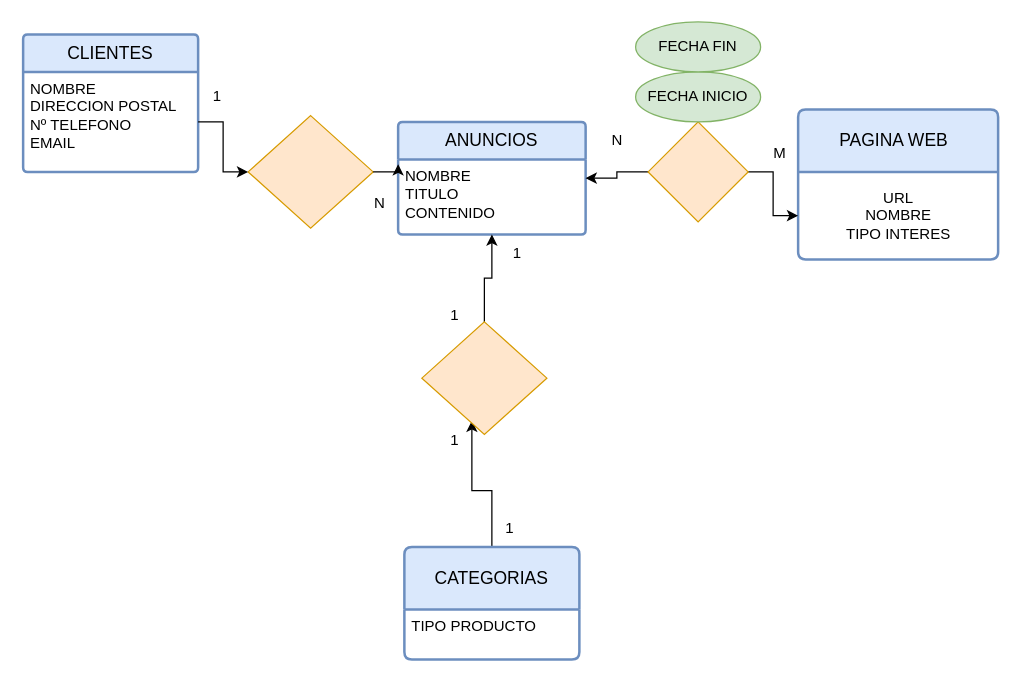
This 1020x683 diagram has some shape labels left out. Here are the shapes that lost their labels. From the top down, the centre of each, then its label:
point 310,171: CONTRATAN
point 697,171: APARECEN
point 484,377: PERTENECE
